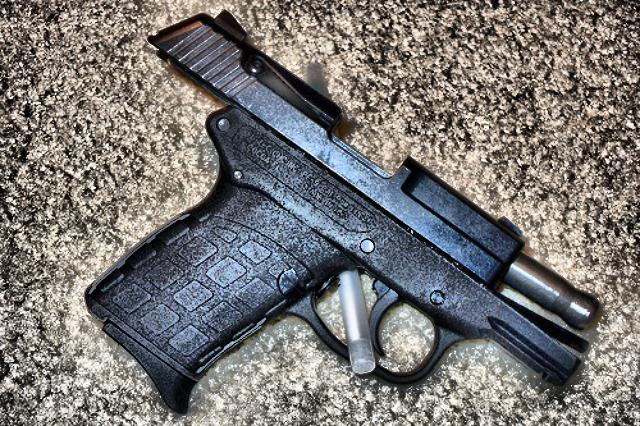pistol: (70, 9, 598, 405)
